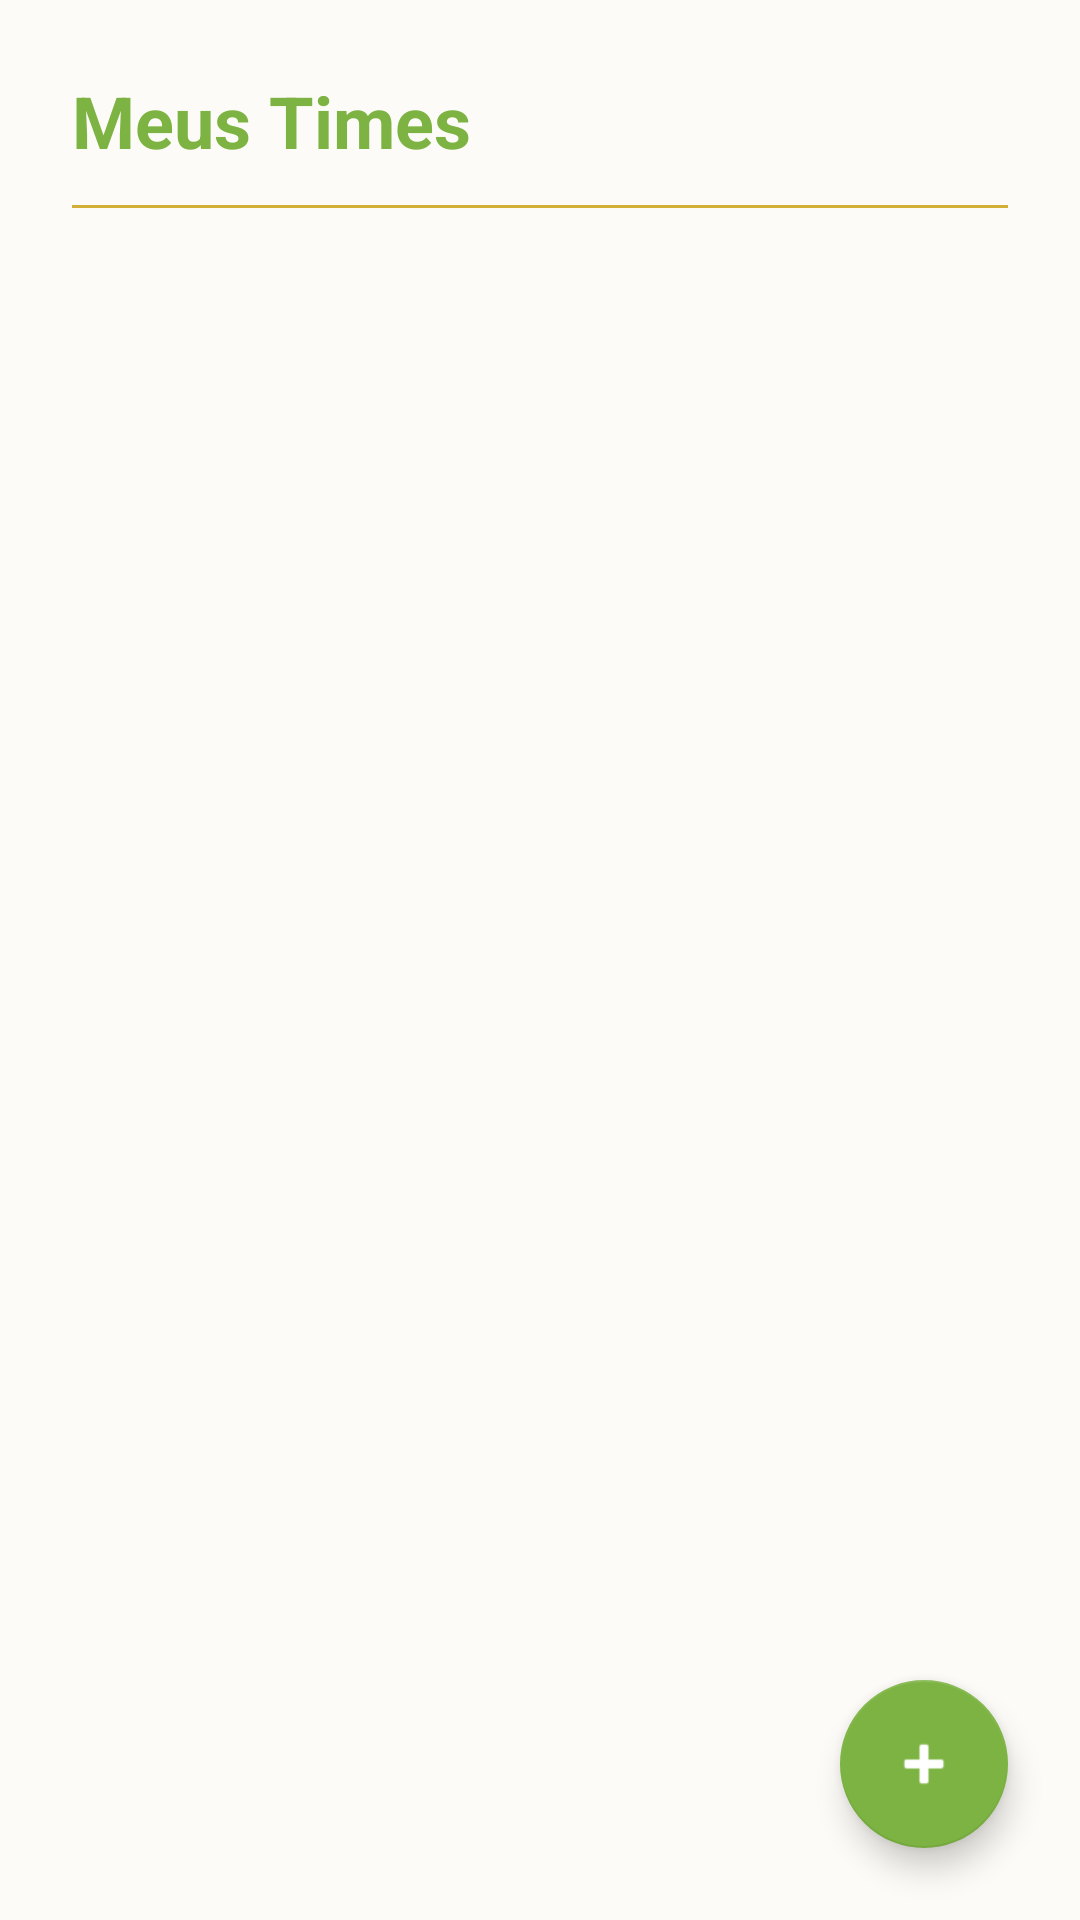

Where icons sit on this 1080*1920 app screen, as (x1, y1, x2, y2):
Adicionar time: (840, 1680, 1008, 1848)
